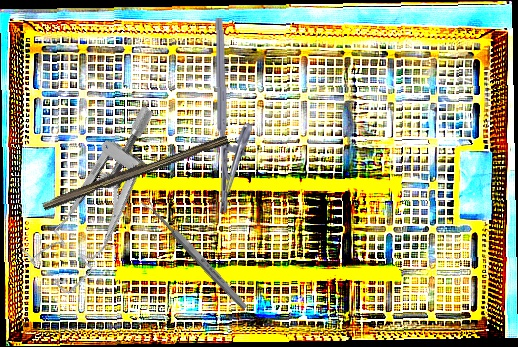Needle Holder: (214, 17, 255, 214)
Scalpel Handle: (40, 129, 230, 214)
Speculum: (7, 103, 202, 298)
Surgical Spoon: (140, 196, 250, 312)
